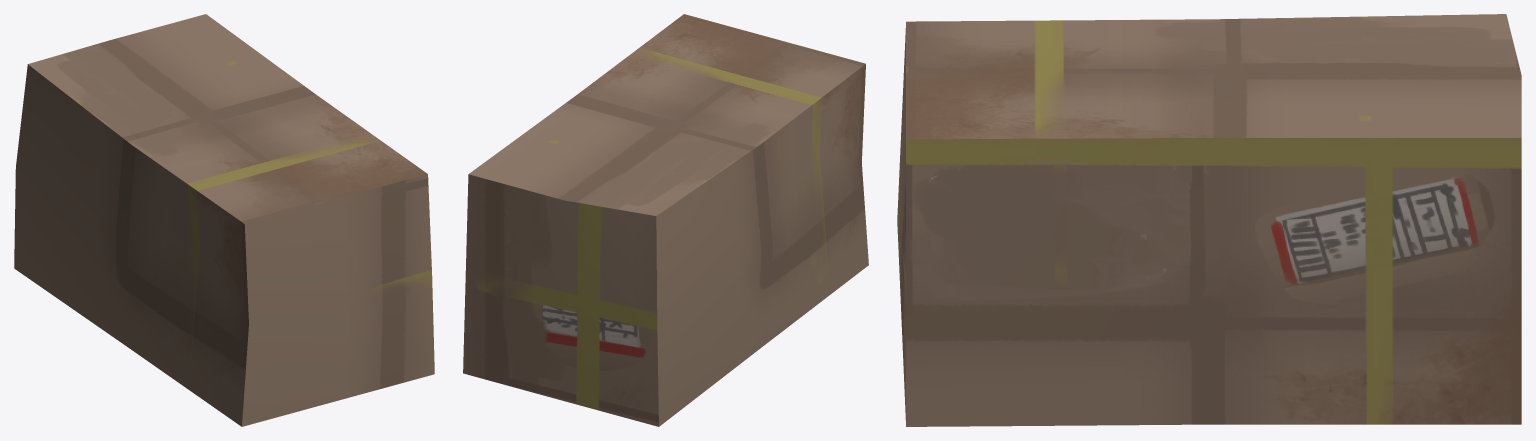
The model's file is CardboardBox_Rectangle.fbx.
3 renders of one model, left to right at view 1: azimuth 30°, elevation 25°; view 2: azimuth 150°, elevation 25°; view 3: azimuth 270°, elevation 25°, orthographic. The views are drawn at different scales.
Parts seen in each view (by area): view 1: Cardboard_Rectangle:Cardboardbox_Rectangle:pCube2; view 2: Cardboard_Rectangle:Cardboardbox_Rectangle:pCube2; view 3: Cardboard_Rectangle:Cardboardbox_Rectangle:pCube2.
Part boxes in pixels (x1,y1,x2,y2): Cardboard_Rectangle:Cardboardbox_Rectangle:pCube2: (14, 14, 434, 426); Cardboard_Rectangle:Cardboardbox_Rectangle:pCube2: (463, 14, 868, 426); Cardboard_Rectangle:Cardboardbox_Rectangle:pCube2: (897, 14, 1521, 426).
Size of the model in its own units: 1.87 by 1.83 by 3.56.
